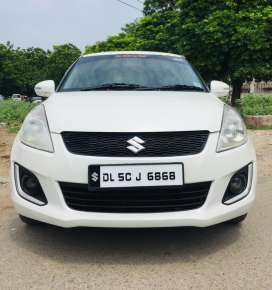license_plate: (83, 162, 190, 187)
